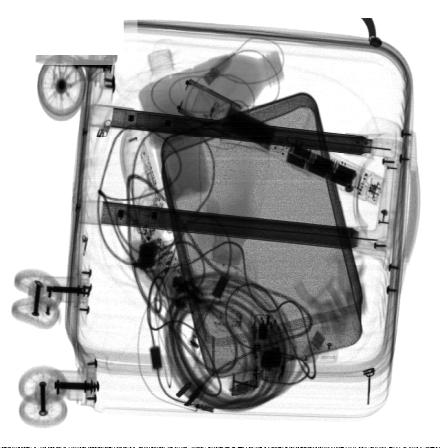Baton: (177, 78, 385, 206)
